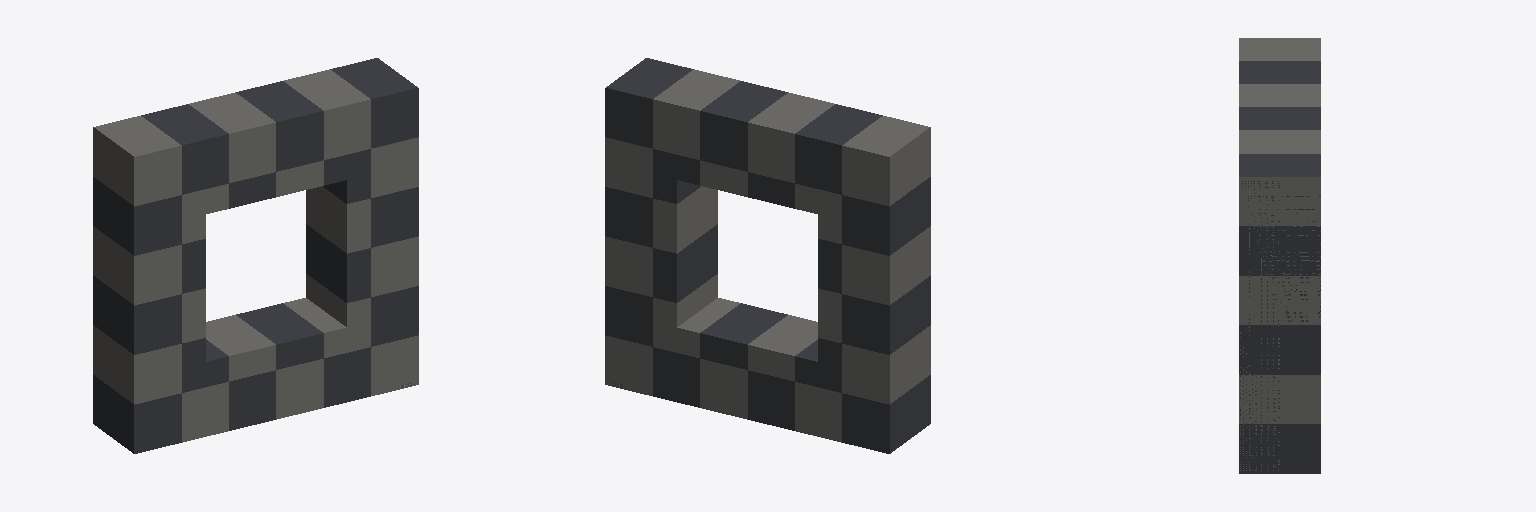
3 renders of one model, left to right at view 1: azimuth 30°, elevation 25°; view 2: azimuth 150°, elevation 25°; view 3: azimuth 270°, elevation 25°, orthographic.
Parts seen in each view (by area): view 1: Hole_Cube.005; view 2: Hole_Cube.005; view 3: Hole_Cube.005.
Part boxes in pixels (x1,y1,x2,y2): Hole_Cube.005: (93, 58, 418, 453); Hole_Cube.005: (605, 58, 930, 453); Hole_Cube.005: (1239, 38, 1320, 473).
Size of the model in its own units: 4 by 4 by 1.
1 materials, 1 textured.